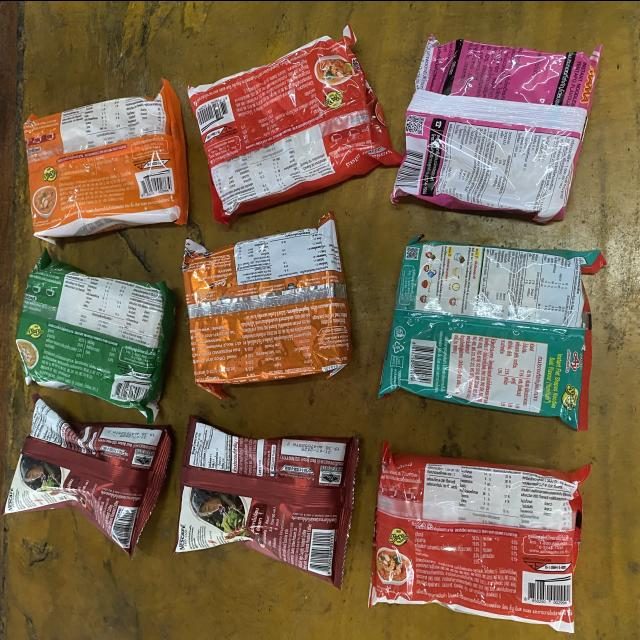plastik: (380, 239, 605, 430), (188, 24, 400, 223), (370, 444, 591, 631), (394, 36, 601, 221), (174, 416, 358, 587), (184, 214, 352, 396), (16, 251, 175, 421), (3, 396, 171, 554), (24, 79, 189, 235)
